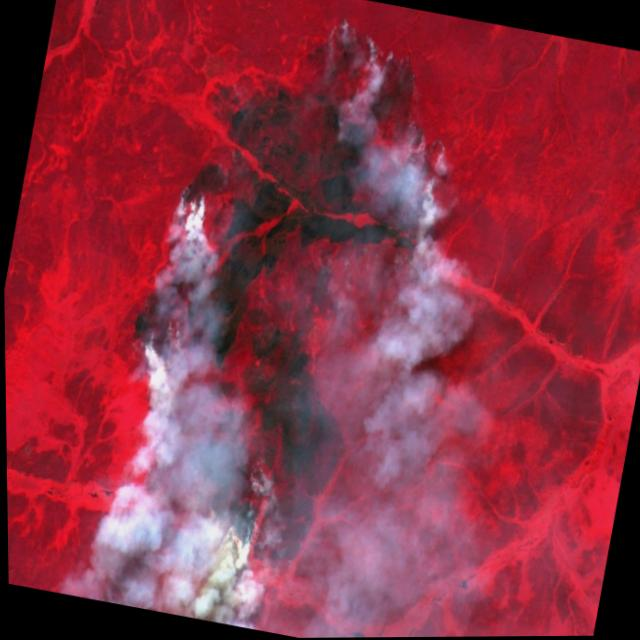fire: (286, 9, 490, 252), (109, 159, 248, 393), (169, 426, 329, 600)
